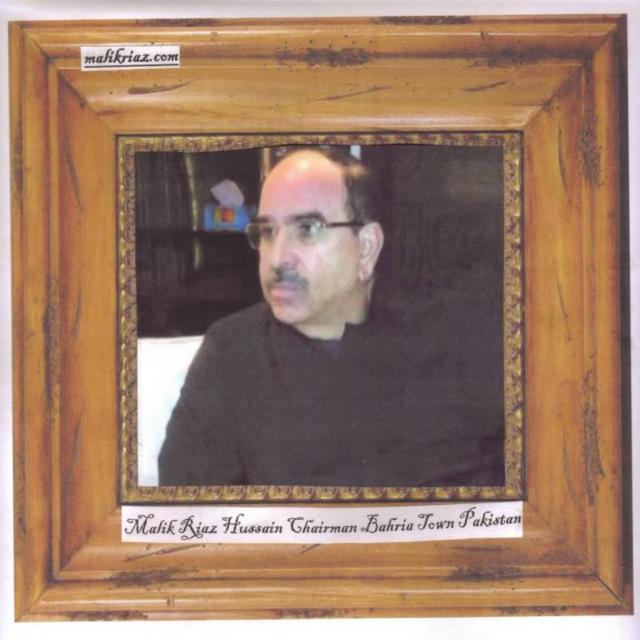nomask: (259, 162, 360, 318)
